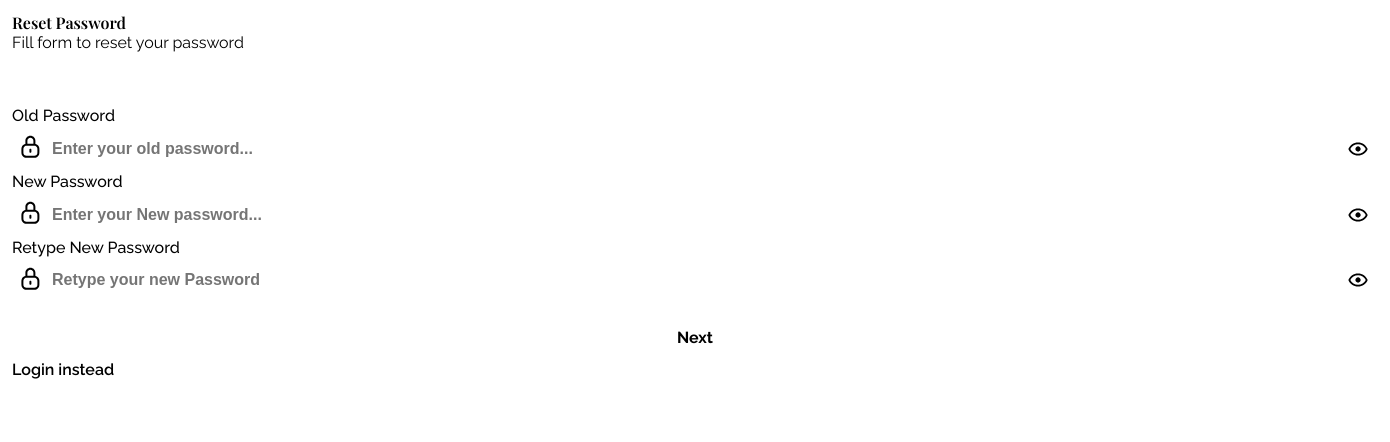
it: Test Component : ResetPasswordForm › if inputs are empty if click on the next show error
Click the button with test id "resetPasswordFormNextButton". click: x=695, y=337
box: [12,321,1378,353]
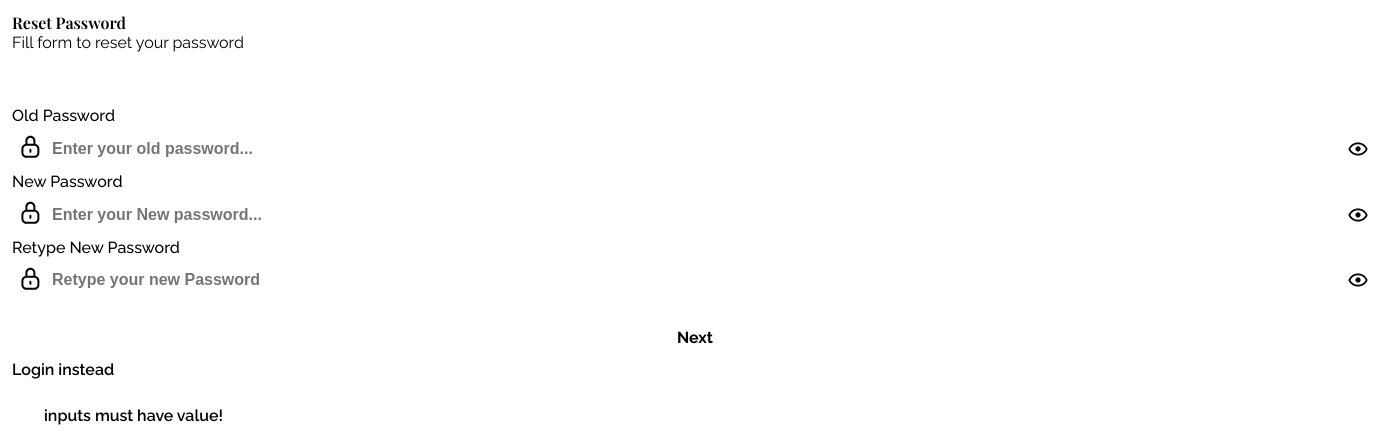
expect the element with test id "errorMessage" reads "inputs must have value!": met, box [44,406,223,425]
